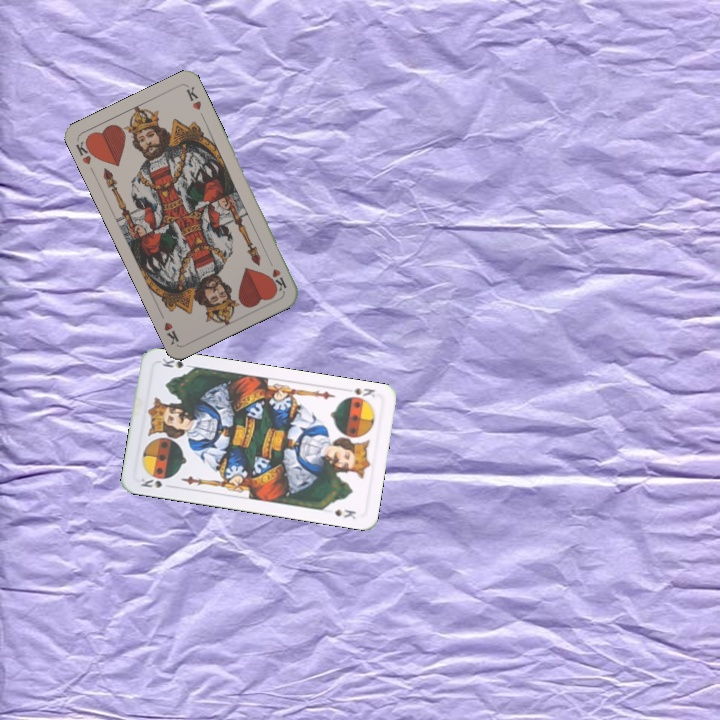HK: (264, 255, 289, 294), (71, 134, 98, 167)
SK: (137, 474, 176, 491), (350, 384, 378, 400)
